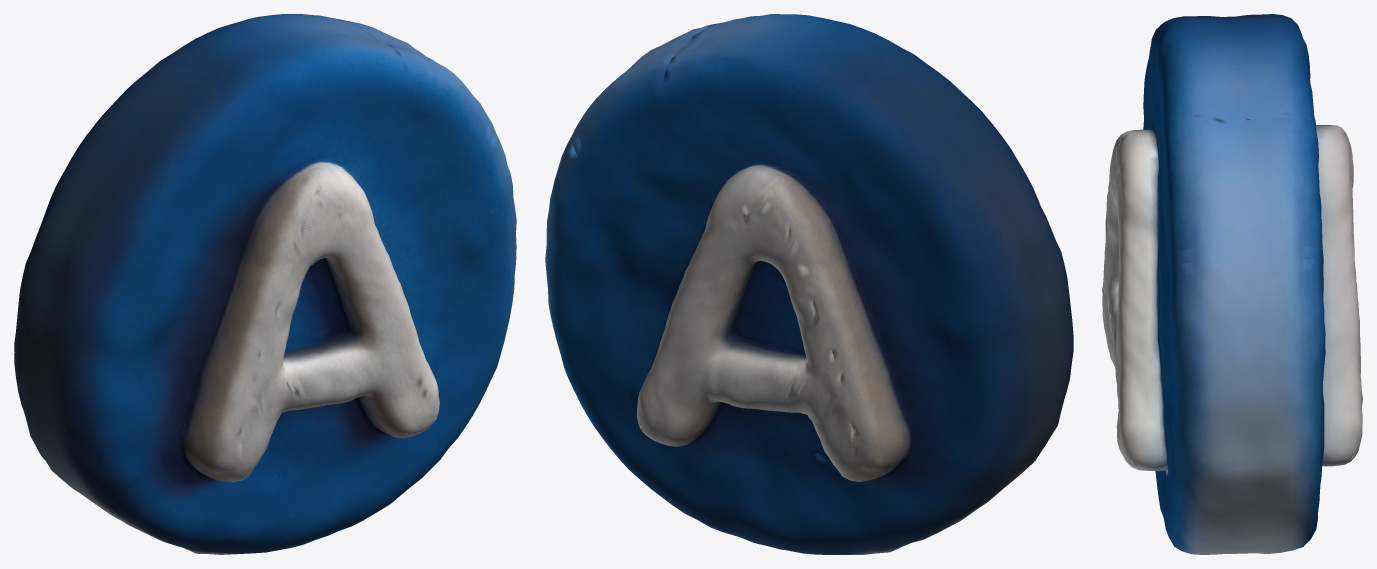
The model's file is Stack 2A - A train.glb.
The picture shows the model from 3 angles, left to right: view 1: azimuth 30°, elevation 25°; view 2: azimuth 150°, elevation 25°; view 3: azimuth 270°, elevation 25°; orthographic projection.
Visible parts, largest first — view 1: A train; view 2: A train; view 3: A train.
Boxes of the visible parts, x1,y1,x2,y2 form: A train: (14, 14, 516, 554); A train: (545, 14, 1073, 554); A train: (1102, 14, 1362, 554).
Size of the model in its own units: 1 by 0.9927 by 0.4763.
1 material, 1 textured.
